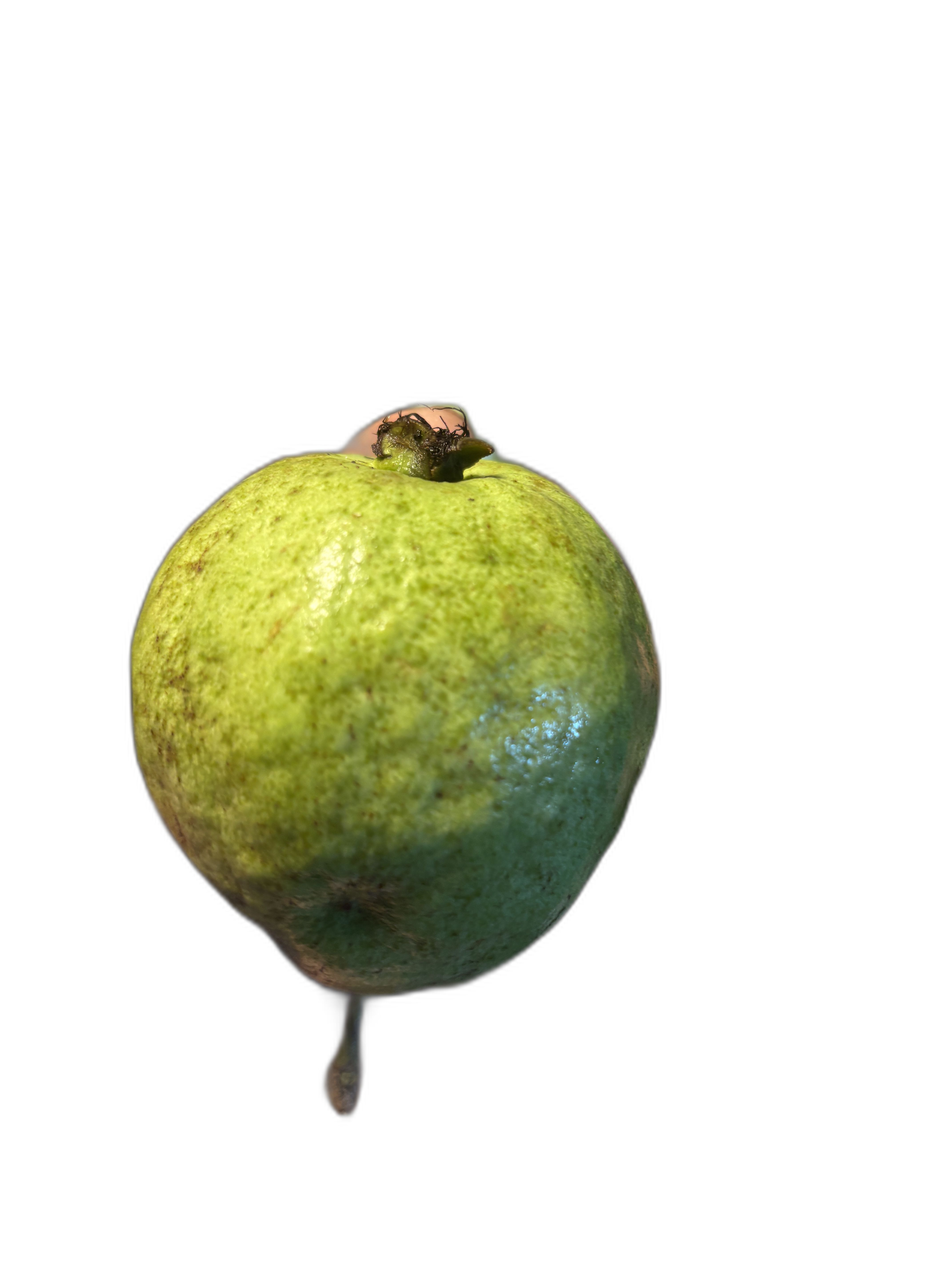guava: (82, 181, 828, 1111)
